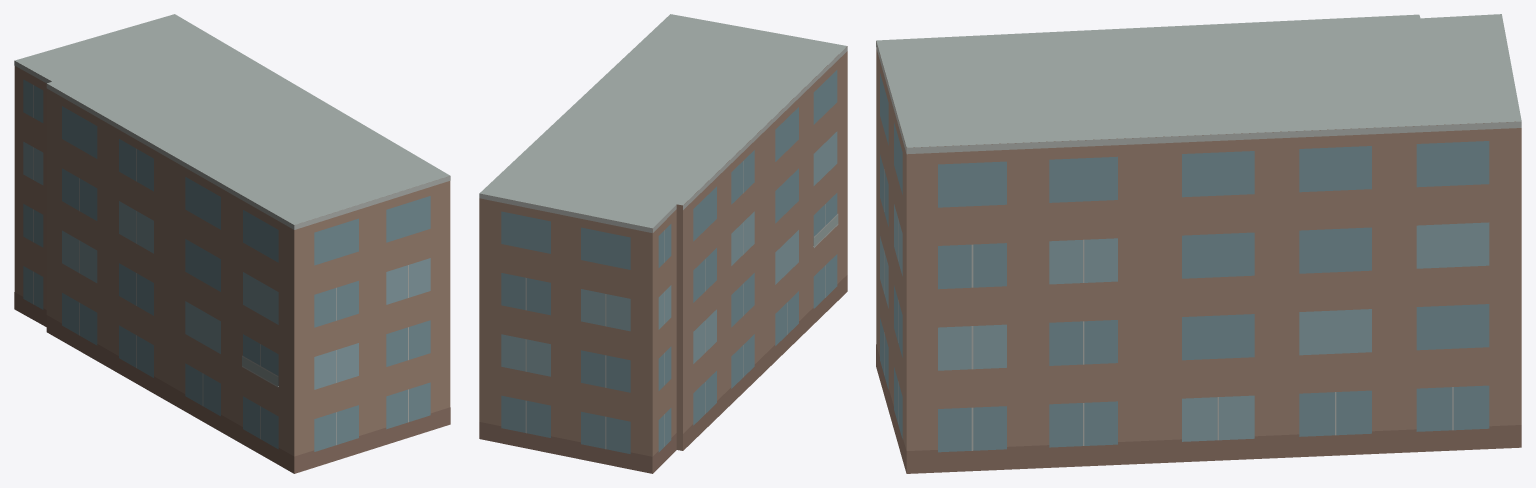
File: survey-upis-32948070.glb
3 renders of one model, left to right at view 1: azimuth 30°, elevation 25°; view 2: azimuth 150°, elevation 25°; view 3: azimuth 270°, elevation 25°, orthographic. The views are drawn at different scales.
Parts seen in each view (by area): view 1: survey-upis-32948070.tmp; view 2: survey-upis-32948070.tmp; view 3: survey-upis-32948070.tmp.
Boxes of the visible parts, bbox=[...] form: survey-upis-32948070.tmp: bbox=[14, 14, 450, 473]; survey-upis-32948070.tmp: bbox=[479, 14, 847, 473]; survey-upis-32948070.tmp: bbox=[876, 14, 1521, 473].
Size of the model in its own units: 10.83 by 12.3 by 22.08.
